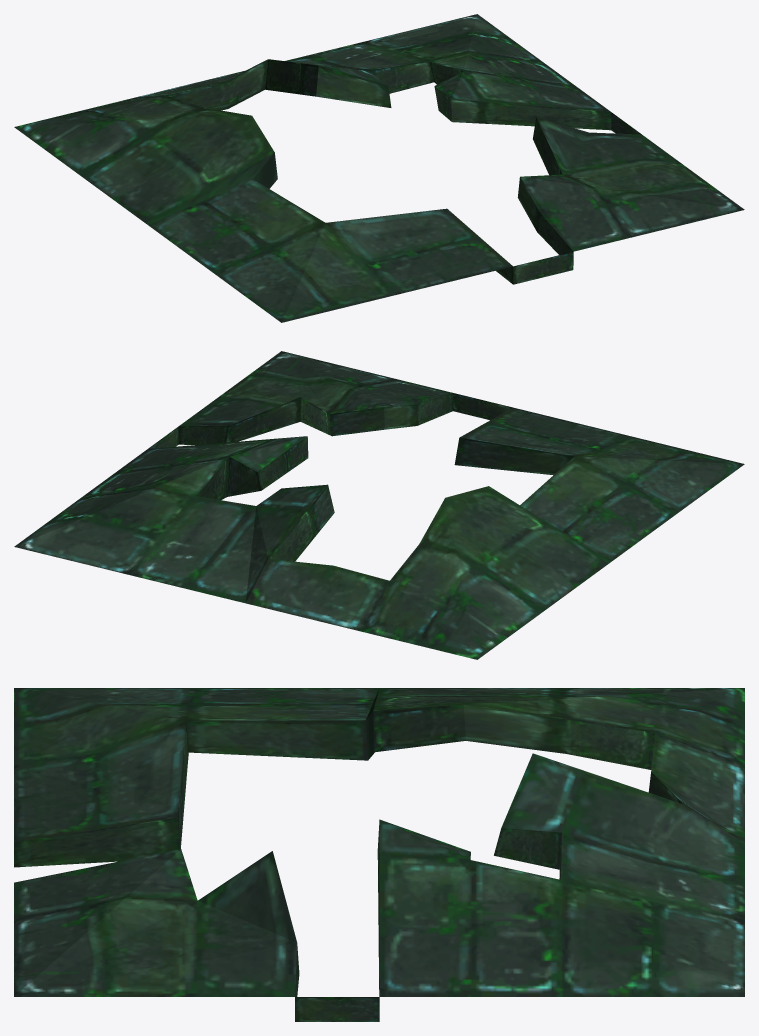
File: stemple_floor_buckled_noshadow_01.fbx
The picture shows the model from 3 angles, top to bottom: view 1: azimuth 30°, elevation 25°; view 2: azimuth 150°, elevation 25°; view 3: azimuth 270°, elevation 25°; orthographic projection. The views are drawn at different scales.
Parts seen in each view (by area): view 1: obj0.432; view 2: obj0.432; view 3: obj0.432.
Part boxes in pixels (<box>): obj0.432: <box>14,14,744,322</box>; obj0.432: <box>14,351,744,659</box>; obj0.432: <box>14,688,744,1021</box>.
Bounding box in the file's own units: 4 × 0.6709 × 4.
